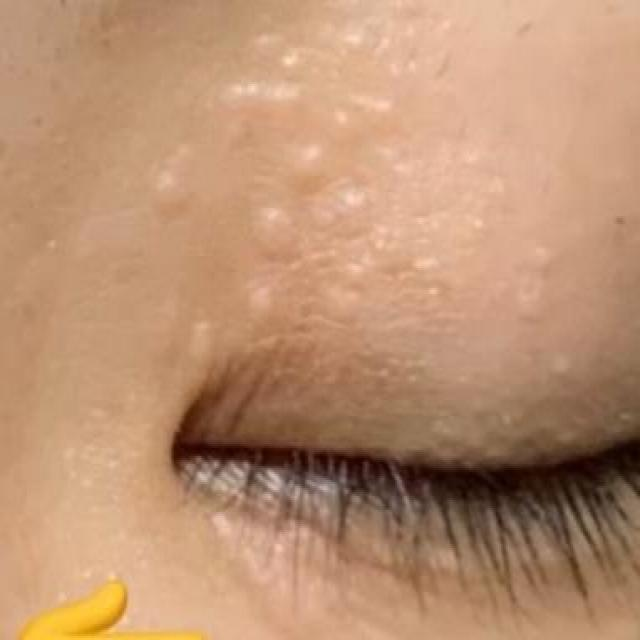blackheads: (201, 12, 438, 126), (310, 148, 454, 294), (144, 132, 197, 225), (243, 188, 300, 269), (273, 128, 338, 194)
